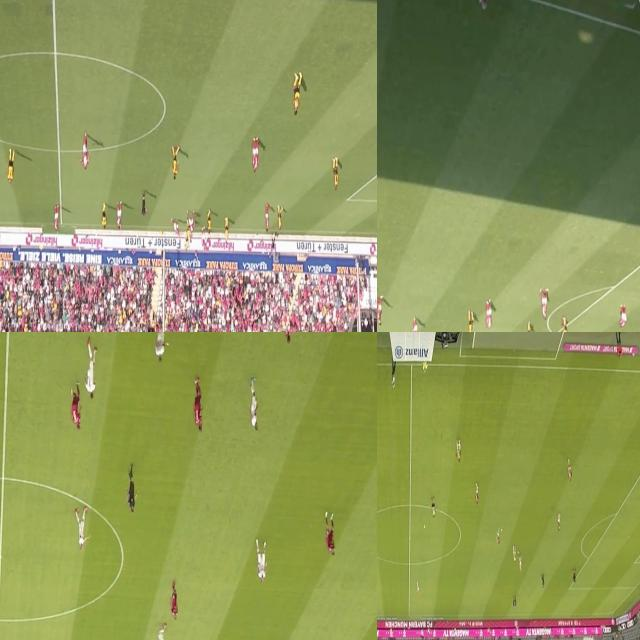ball: (421, 522, 427, 532), (516, 549, 520, 557), (499, 530, 504, 534), (192, 220, 194, 228)
player: (83, 342, 98, 398), (322, 506, 337, 560), (193, 372, 204, 434), (246, 380, 258, 434), (254, 538, 268, 584), (71, 381, 83, 431), (76, 508, 88, 554), (248, 133, 260, 177), (290, 71, 300, 119), (169, 582, 181, 622), (5, 144, 16, 186), (332, 152, 342, 192), (80, 132, 89, 172), (538, 288, 548, 322), (156, 332, 167, 361), (51, 202, 61, 232), (275, 204, 285, 230), (377, 292, 384, 328), (172, 144, 178, 184), (485, 302, 493, 332), (620, 306, 630, 330), (276, 332, 294, 345), (454, 438, 463, 464), (264, 202, 271, 234), (466, 310, 476, 332), (222, 216, 230, 243), (116, 198, 122, 232), (100, 199, 107, 228), (184, 224, 193, 244), (559, 316, 570, 332), (173, 216, 181, 237), (156, 623, 165, 640), (205, 212, 212, 232), (566, 460, 572, 482), (410, 316, 418, 332), (188, 210, 194, 230), (512, 545, 518, 562), (202, 228, 206, 252), (474, 484, 478, 506), (556, 512, 560, 534), (512, 596, 518, 610), (525, 322, 533, 332), (431, 498, 435, 518), (540, 576, 545, 590), (496, 528, 500, 544), (518, 557, 522, 573), (572, 570, 576, 586), (416, 582, 420, 596)
